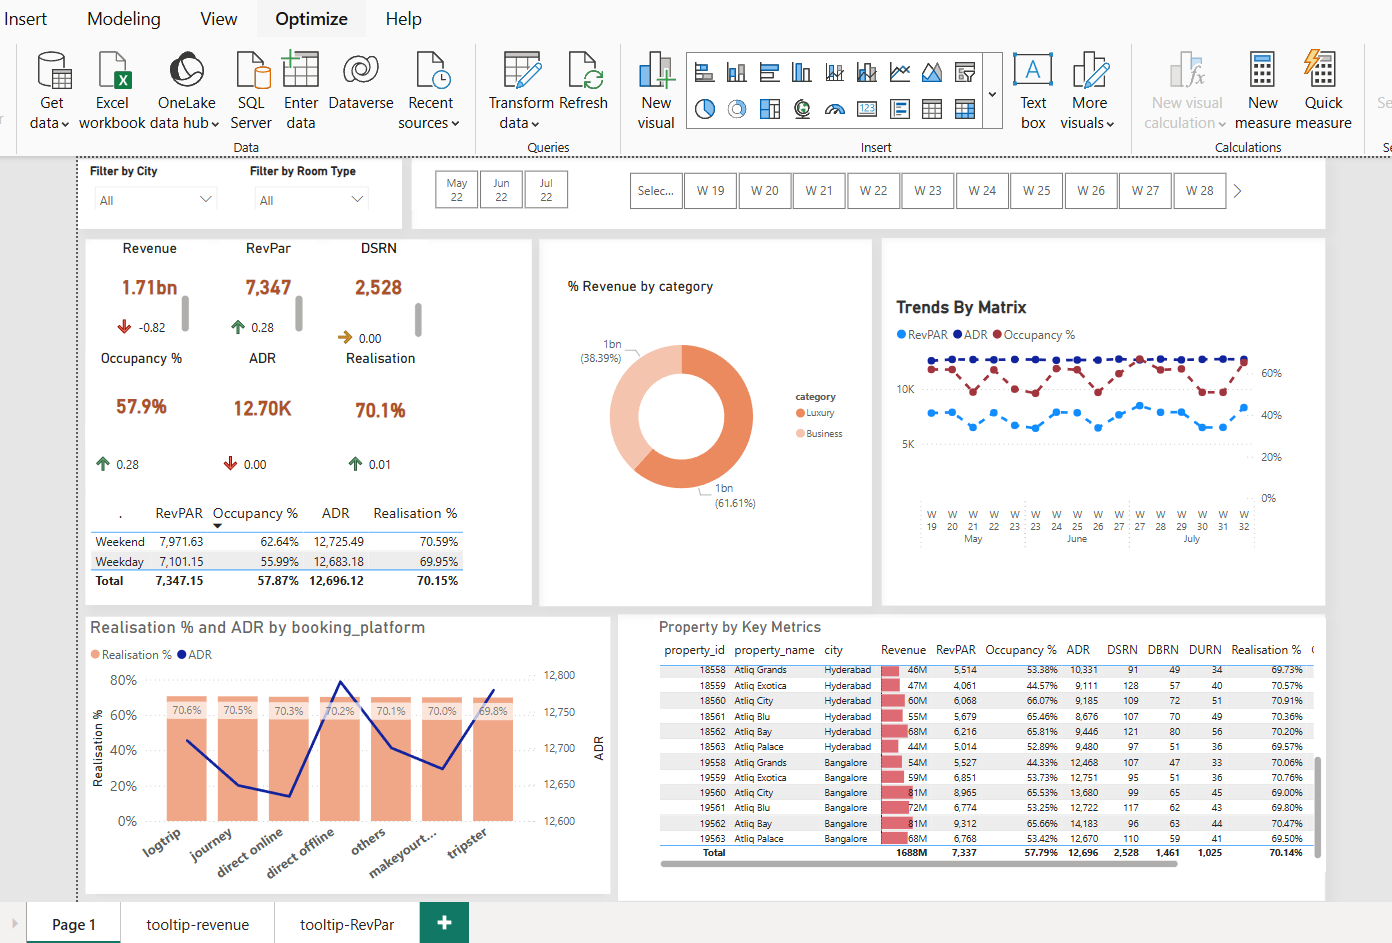

What the dashboard file says about the page in this screenshot:
{"tool":"powerbi","page":{"name":"Page 1","canvas":[1500,1100],"ordinal":0},"visuals":[{"type":"shape","box":[600,506.5,786.2,318.8],"z":0,"group":"g2"},{"type":"shape","box":[7.5,506.5,583.8,318.8],"z":1000,"group":"g2"},{"type":"shape","box":[893,88.7,493,408.5],"z":2000,"group":"g2"},{"type":"shape","box":[513.2,90.2,369.7,407.9],"z":3000,"group":"g2"},{"type":"shape","box":[7.9,90.2,496.1,406.6],"z":4000,"group":"g2"},{"type":"shape","box":[370.4,0,1015.5,78.9],"z":5000,"group":"g2"},{"type":"shape","box":[0,1.9,360,77.3],"z":6000,"group":"g2"},{"type":"slicer","fields":{"Values":["dim_date.mmm yy"]},"box":[370.7,7.2,197.3,50.7],"z":7000,"group":"g1"},{"type":"tableEx","title":"Property by Key Metrics","fields":{"Values":["dim_hotels.property_id","dim_hotels.property_name","dim_hotels.city","key_Measures.Revenue","key_Measures.RevPAR","key_Measures.Occupancy %","key_Measures.ADR","key_Measures.DSRN","key_Measures.DBRN","key_Measures.DURN","key_Measures.Realisation %","key_Measures.Cancellation %"]},"box":[640,511.2,746.7,282.7],"z":7000,"group":"g2"},{"type":"card","title":"Revenue","fields":{"Values":["key_Measures.Revenue"]},"box":[15.9,91.2,128.7,85.3],"z":8000,"group":"g2"},{"type":"slicer","title":"Filter by City","fields":{"Values":["dim_hotels.city"]},"box":[8,7.2,156,50.7],"z":9000,"group":"g2"},{"type":"slicer","fields":{"Values":["dim_date.week no"]},"box":[584,7.2,717.3,60],"z":9000,"group":"g1"},{"type":"card","title":"RevPar","fields":{"Values":["key_Measures.RevPAR"]},"box":[157.3,91.2,108.8,85.6],"z":10000,"group":"g2"},{"type":"slicer","title":"Filter by Room Type","fields":{"Values":["dim_rooms.room_class"]},"box":[186.7,7.2,146.7,50.7],"z":11000,"group":"g2"},{"type":"card","title":"DSRN","fields":{"Values":["key_Measures.DSRN"]},"box":[278.8,91.2,110.1,85.6],"z":12000,"group":"g2"},{"type":"card","title":"Occupancy %","fields":{"Values":["key_Measures.Occupancy %"]},"box":[8,213.9,124,105.3],"z":13000,"group":"g2"},{"type":"card","title":"ADR","fields":{"Values":["key_Measures.ADR"]},"box":[150.7,213.9,109.3,110.7],"z":14000,"group":"g2"},{"type":"card","title":"Realisation","fields":{"Values":["key_Measures.Realisation %"]},"box":[270.7,213.9,130.7,114.7],"z":15000,"group":"g2"},{"type":"donutChart","title":"% Revenue by category","fields":{"Category":["dim_hotels.category"],"Y":["key_Measures.Revenue"]},"box":[538.7,133.9,325.3,290.7],"z":16000,"group":"g2"},{"type":"tableEx","fields":{"Values":["key_Measures.Revpar WoW change %"]},"box":[159,147.6,96.6,54.1],"z":17000,"group":"g2"},{"type":"tableEx","fields":{"Values":["key_Measures.Revenue WoW change %"]},"box":[31.8,147.6,96.6,54.1],"z":18000,"group":"g2"},{"type":"lineChart","title":"Trends By Matrix","fields":{"Category":["dim_date.mmm yy.Variation.Date Hierarchy.Month","dim_date.week no"],"Y":["key_Measures.RevPAR","key_Measures.ADR"],"Y2":["key_Measures.Occupancy %"]},"box":[904.2,154.3,439.4,290.1],"z":19000,"group":"g2"},{"type":"tableEx","fields":{"Values":["key_Measures.DSRN WoW change %"]},"box":[278.3,155.9,109.6,55.8],"z":20000,"group":"g2"},{"type":"lineClusteredColumnComboChart","fields":{"Category":["fact_bookings.booking_platform"],"Y":["key_Measures.Realisation %"],"Y2":["key_Measures.ADR"]},"box":[7.9,509.9,582.9,307.9],"z":21000,"group":"g2"},{"type":"tableEx","fields":{"Values":["dim_date.day_type","key_Measures.RevPAR","key_Measures.Occupancy %","key_Measures.ADR","key_Measures.Realisation %"]},"box":[8,376.5,455,112],"z":22000,"group":"g2"},{"type":"tableEx","fields":{"Values":["key_Measures.Occupancy WoW change %"]},"box":[8,295.2,94.7,72],"z":23000,"group":"g2"},{"type":"tableEx","fields":{"Values":["key_Measures.ADR WoW change %"]},"box":[150.7,295.2,104,61.3],"z":24000,"group":"g2"},{"type":"tableEx","fields":{"Values":["key_Measures.Realisation WoW change %"]},"box":[289.3,295.2,100,60],"z":25000,"group":"g2"},{"type":"group","id":"g1","title":"Group 1","box":[370.7,7.2,930.7,60],"z":26000,"group":"g2"},{"type":"group","id":"g2","title":"Group 2","box":[0,0,1387,826],"z":26001}]}

Visuals, with their boxes on the page's 1500x1100 design canvas (x1, y1, x2, y2). These are canvas units, not pixel positions in the 1392x943 screenshot, which may show the page scaled, cropped or inside an application window:
shape: rect(600, 506, 1386, 825)
shape: rect(8, 506, 591, 825)
shape: rect(893, 89, 1386, 497)
shape: rect(513, 90, 883, 498)
shape: rect(8, 90, 504, 497)
shape: rect(370, 0, 1386, 79)
shape: rect(0, 2, 360, 79)
slicer - dim_date.mmm yy: rect(371, 7, 568, 58)
"Property by Key Metrics" tableEx: rect(640, 511, 1387, 794)
"Revenue" card: rect(16, 91, 145, 176)
"Filter by City" slicer: rect(8, 7, 164, 58)
slicer - dim_date.week no: rect(584, 7, 1301, 67)
"RevPar" card: rect(157, 91, 266, 177)
"Filter by Room Type" slicer: rect(187, 7, 333, 58)
"DSRN" card: rect(279, 91, 389, 177)
"Occupancy %" card: rect(8, 214, 132, 319)
"ADR" card: rect(151, 214, 260, 325)
"Realisation" card: rect(271, 214, 401, 329)
"% Revenue by category" donutChart: rect(539, 134, 864, 425)
tableEx - key_Measures.Revpar WoW change %: rect(159, 148, 256, 202)
tableEx - key_Measures.Revenue WoW change %: rect(32, 148, 128, 202)
"Trends By Matrix" lineChart: rect(904, 154, 1344, 444)
tableEx - key_Measures.DSRN WoW change %: rect(278, 156, 388, 212)
lineClusteredColumnComboChart - fact_bookings.booking_platform x key_Measures.Realisation %: rect(8, 510, 591, 818)
tableEx - dim_date.day_type x key_Measures.RevPAR: rect(8, 376, 463, 488)
tableEx - key_Measures.Occupancy WoW change %: rect(8, 295, 103, 367)
tableEx - key_Measures.ADR WoW change %: rect(151, 295, 255, 356)
tableEx - key_Measures.Realisation WoW change %: rect(289, 295, 389, 355)
"Group 1" group: rect(371, 7, 1301, 67)
"Group 2" group: rect(0, 0, 1387, 826)
